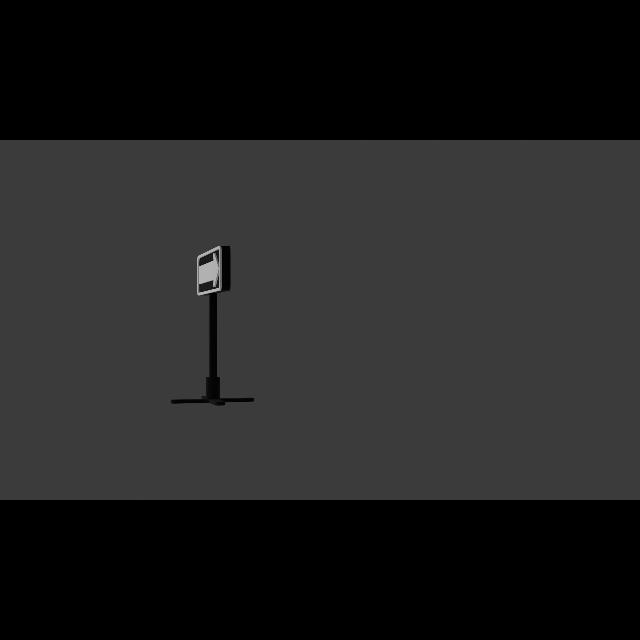sign_oneway_right: (196, 246, 229, 299)
